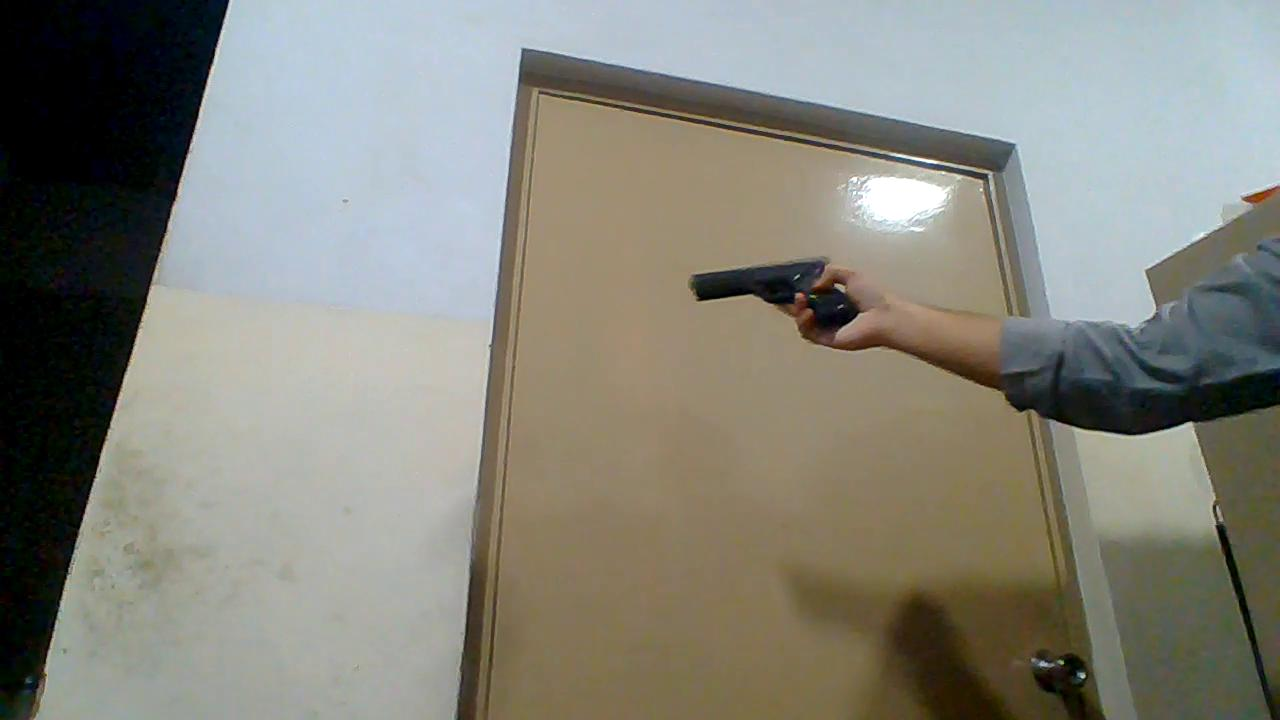weapon: (687, 256, 860, 328)
